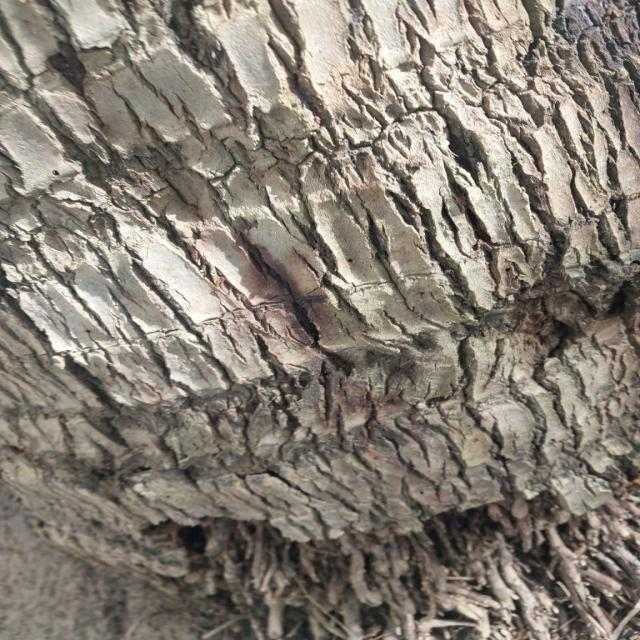stembleeding: (178, 211, 388, 394)
